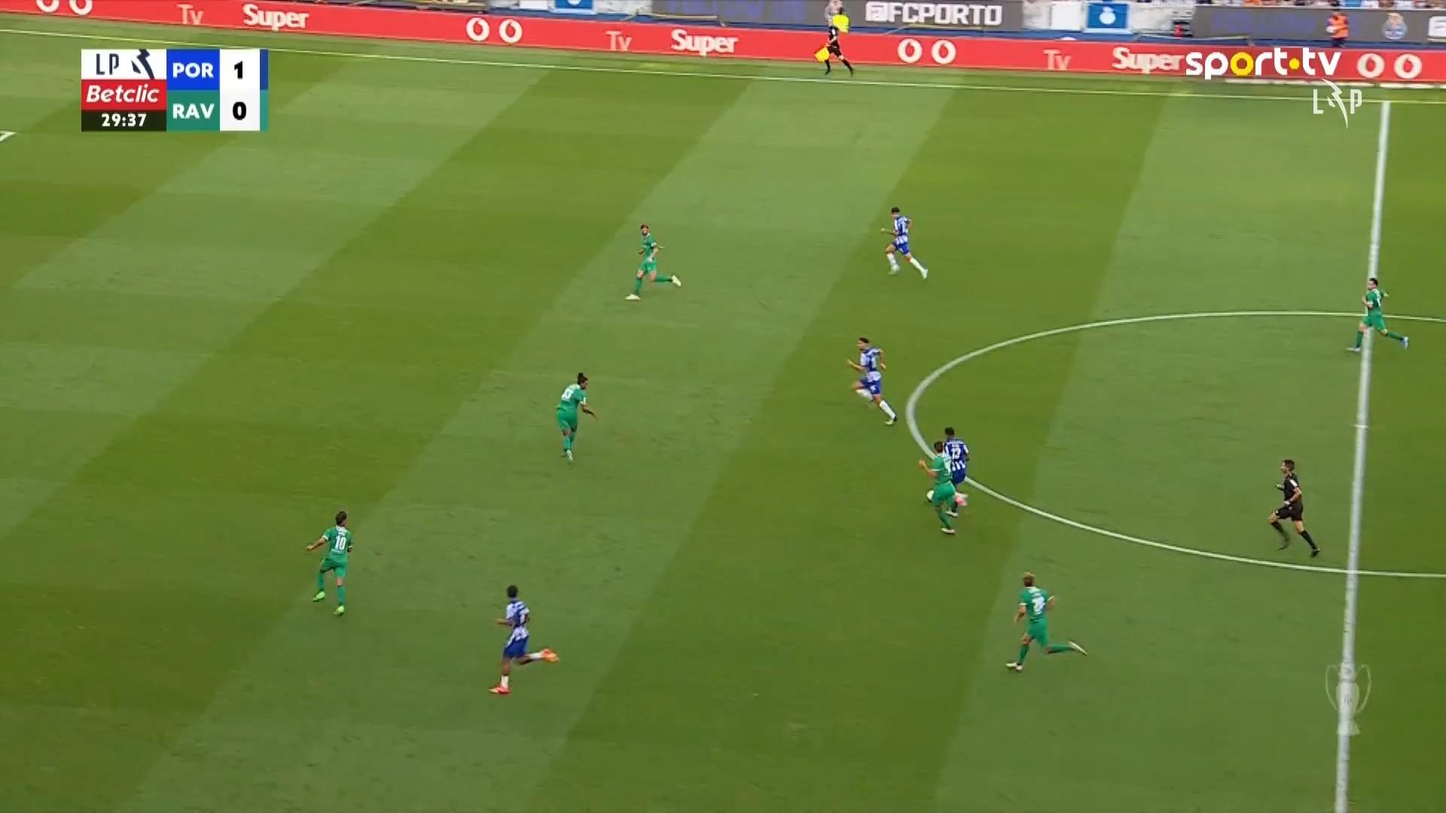ball: (953, 492, 968, 506)
player: (1005, 571, 1087, 671), (488, 583, 559, 695), (304, 510, 353, 616), (1345, 276, 1409, 352), (845, 336, 898, 425), (624, 222, 681, 300), (917, 439, 960, 534), (554, 371, 597, 462), (879, 206, 929, 280), (941, 425, 970, 510)
referee: (1267, 458, 1320, 558), (813, 0, 854, 76)
